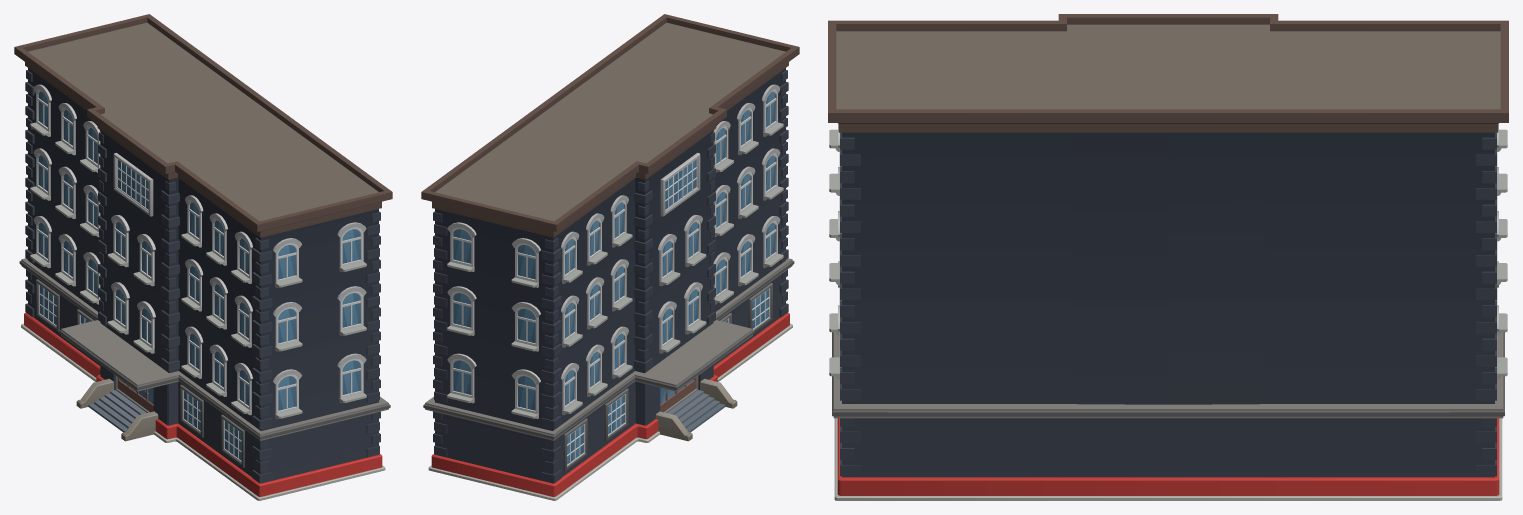
Rendered from Building_6_K.fbx.
3 renders of one model, left to right at view 1: azimuth 30°, elevation 25°; view 2: azimuth 150°, elevation 25°; view 3: azimuth 270°, elevation 25°, orthographic. The views are drawn at different scales.
Visible parts, largest first — view 1: Building_6_K; view 2: Building_6_K; view 3: Building_6_K.
Boxes of the visible parts, left/top/right/bottom form: Building_6_K: left=14, top=14, right=392, bottom=500; Building_6_K: left=421, top=14, right=799, bottom=500; Building_6_K: left=828, top=14, right=1508, bottom=500.
Size of the model in its own units: 935 by 1440 by 2273.
